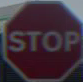Stop: (2, 4, 81, 70)
